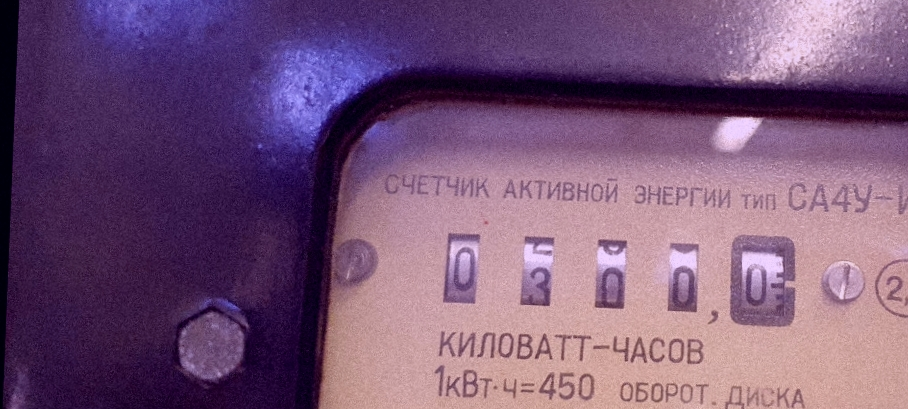0: (450, 241, 478, 293), (741, 259, 770, 309), (596, 261, 625, 310), (667, 263, 697, 310)
3: (524, 262, 553, 306)
screen: (422, 215, 806, 335)
